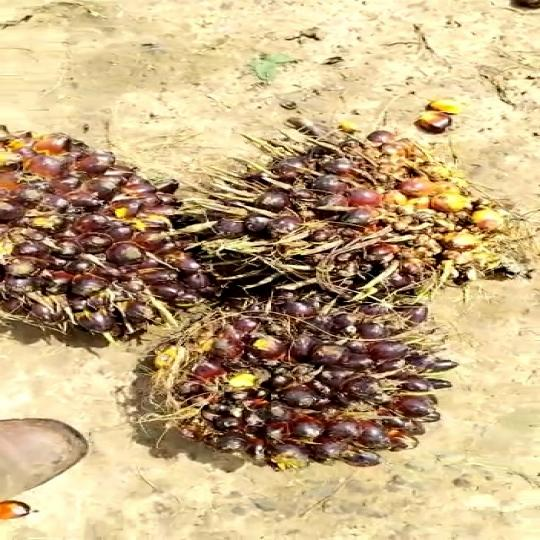kurang masak: (189, 121, 506, 307), (128, 279, 412, 468), (0, 122, 191, 340)
